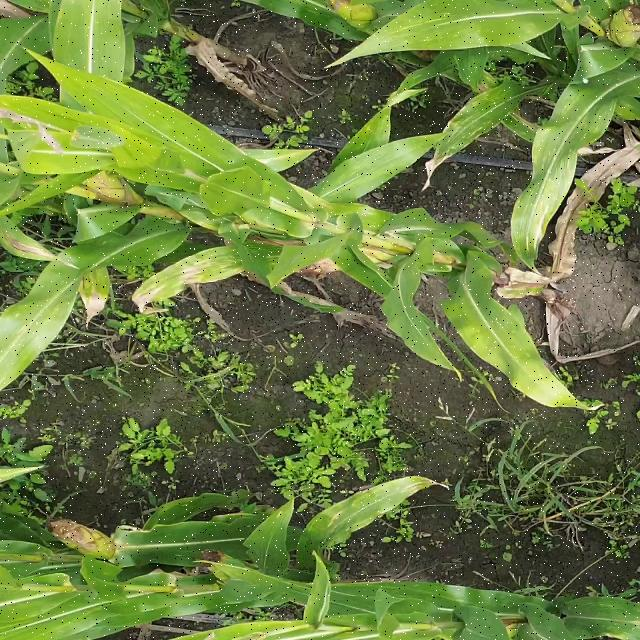gray-leaf-spot: (502, 76, 616, 276), (108, 234, 298, 323), (414, 81, 520, 176), (299, 472, 427, 546)
northern-leaf-blight: (2, 215, 116, 318)
southern-leaf-blight: (77, 69, 225, 165), (356, 578, 628, 628), (363, 0, 495, 58)
